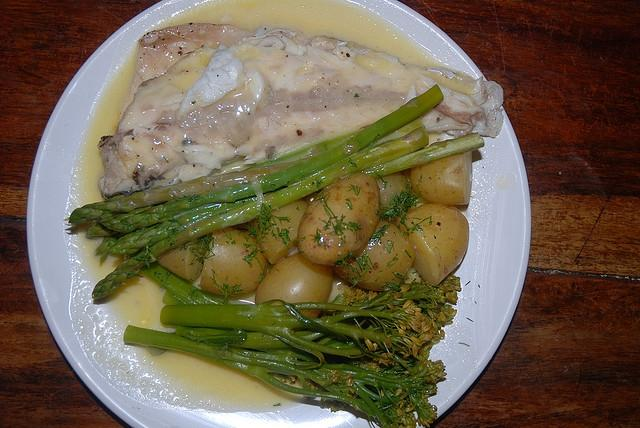asparagus: (92, 126, 429, 299), (99, 84, 444, 236), (82, 118, 426, 212), (160, 290, 430, 376), (109, 186, 287, 255), (140, 264, 222, 306)
broccoli: (124, 324, 447, 428), (160, 276, 463, 374), (140, 262, 224, 304), (162, 291, 188, 305)
potato: (297, 173, 383, 265), (396, 202, 469, 286), (333, 220, 416, 292), (255, 252, 332, 318), (198, 227, 268, 296), (252, 199, 310, 264), (410, 150, 472, 206), (156, 232, 212, 282), (378, 172, 408, 208)
